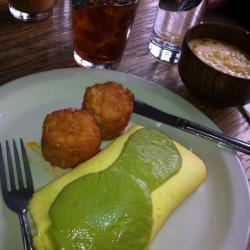omelette: (28, 130, 208, 245)
